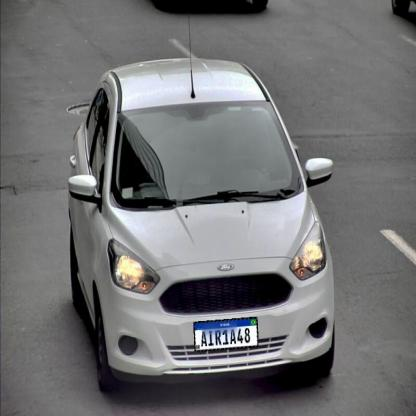PlacaM: (193, 317, 258, 351)
